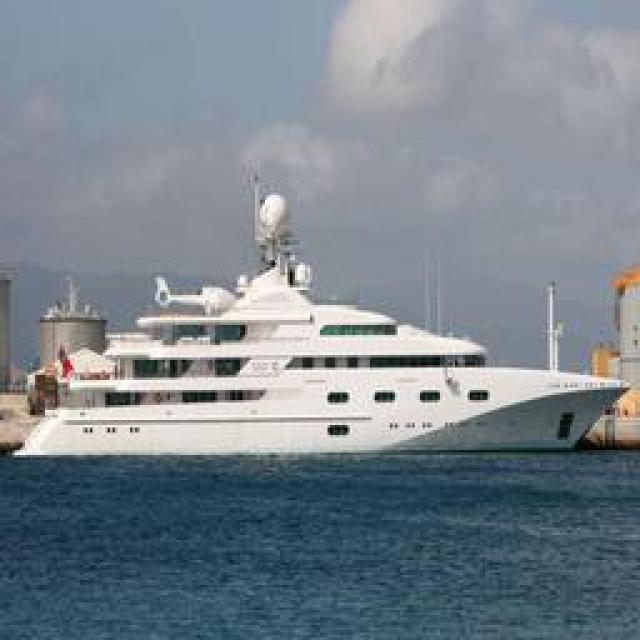Ship: (17, 236, 627, 466)
